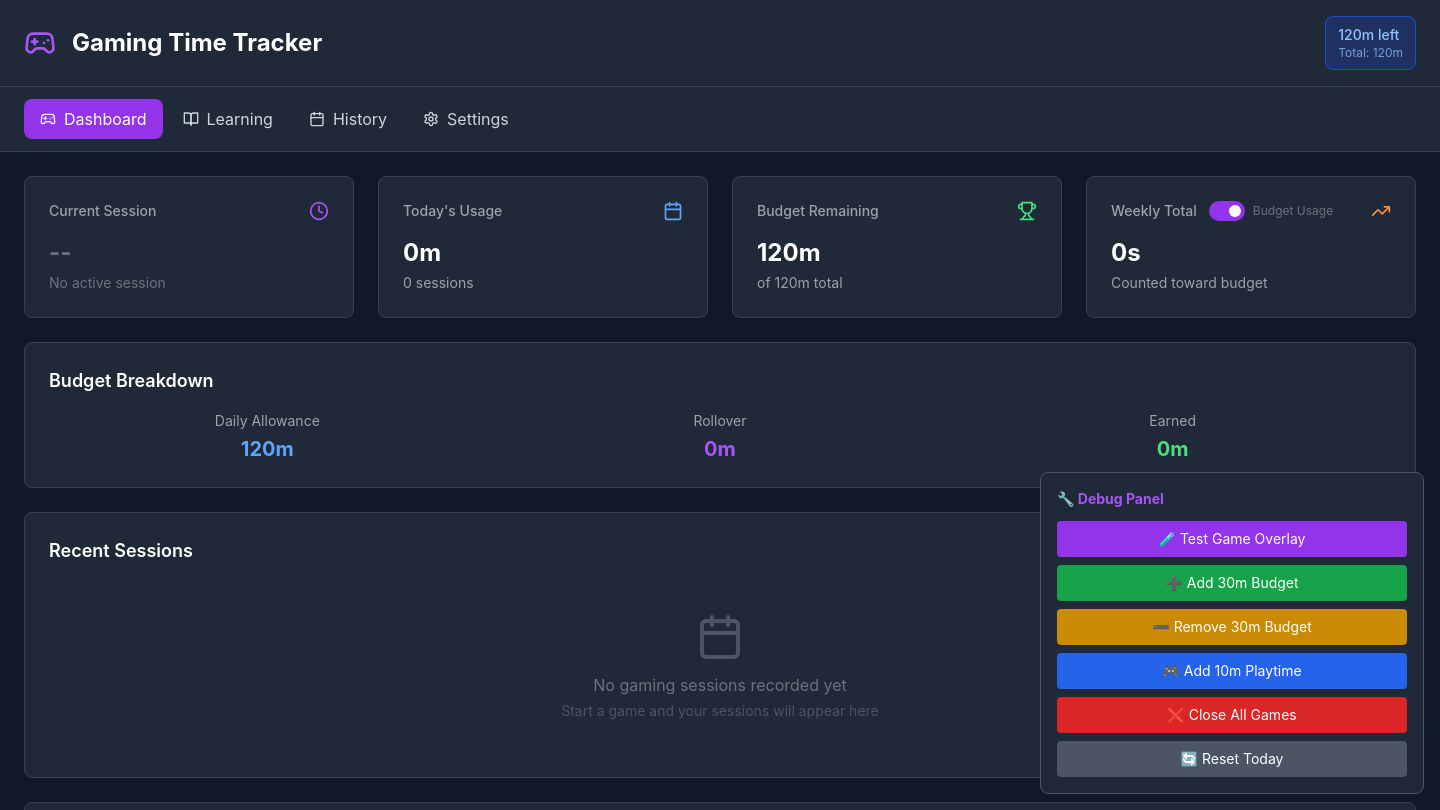
End-to-End User Scenarios › Settings and Configuration › navigates to settings and shows placeholder
Expected: the heading "Gaming Time Tracker" is shown, [72,27,322,59]
Click the button "Settings" at point(466, 119), box [407,99,525,139]
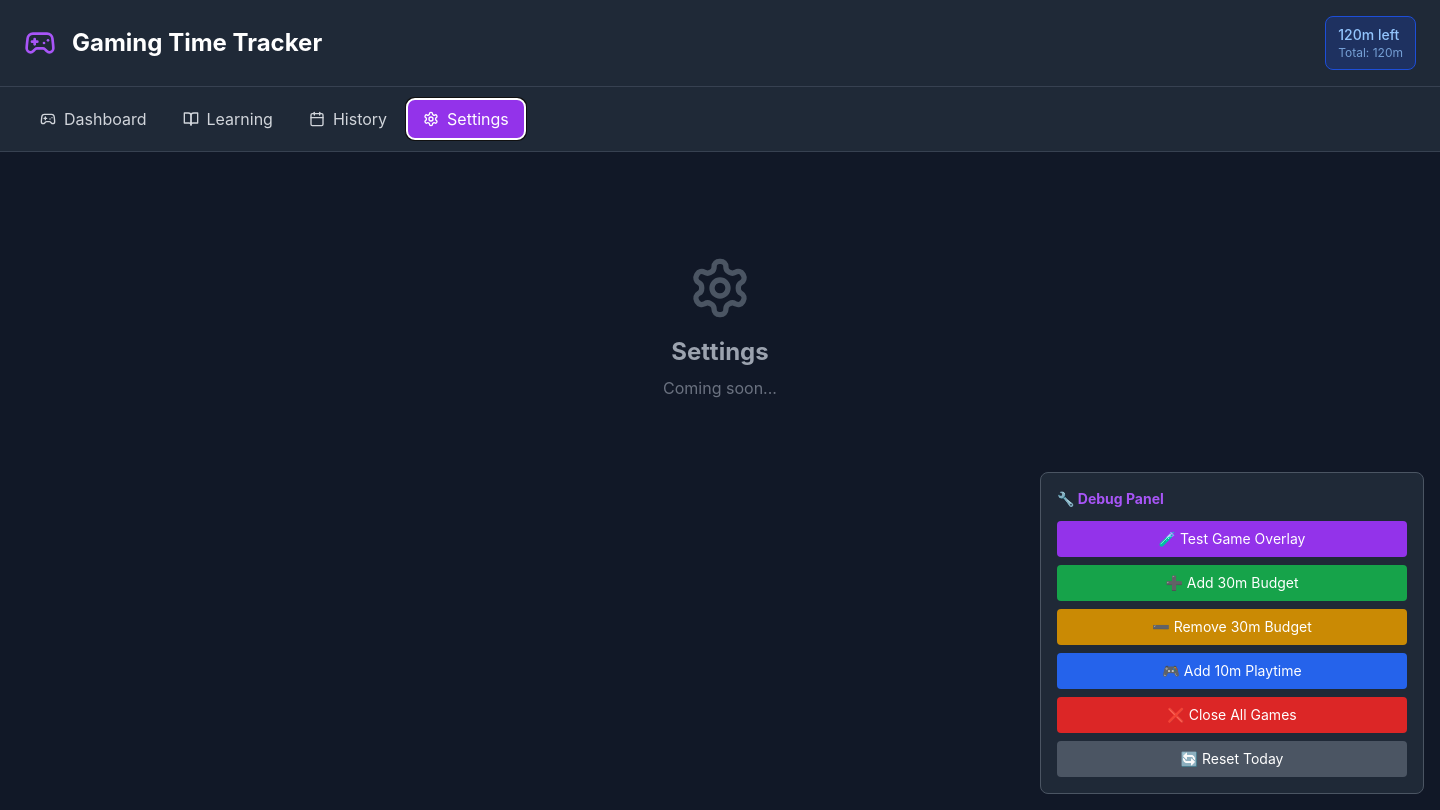
Expected: the heading "Settings" is shown, [671,337,769,366]
Expected: the text "Coming soon..." is shown, [663,378,777,398]
